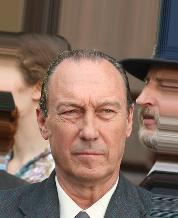face: (59, 101, 117, 161)
